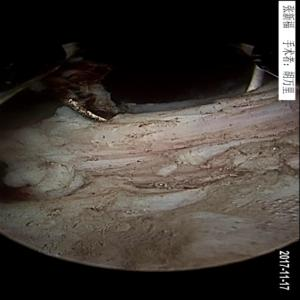film: (50, 105, 289, 168)
